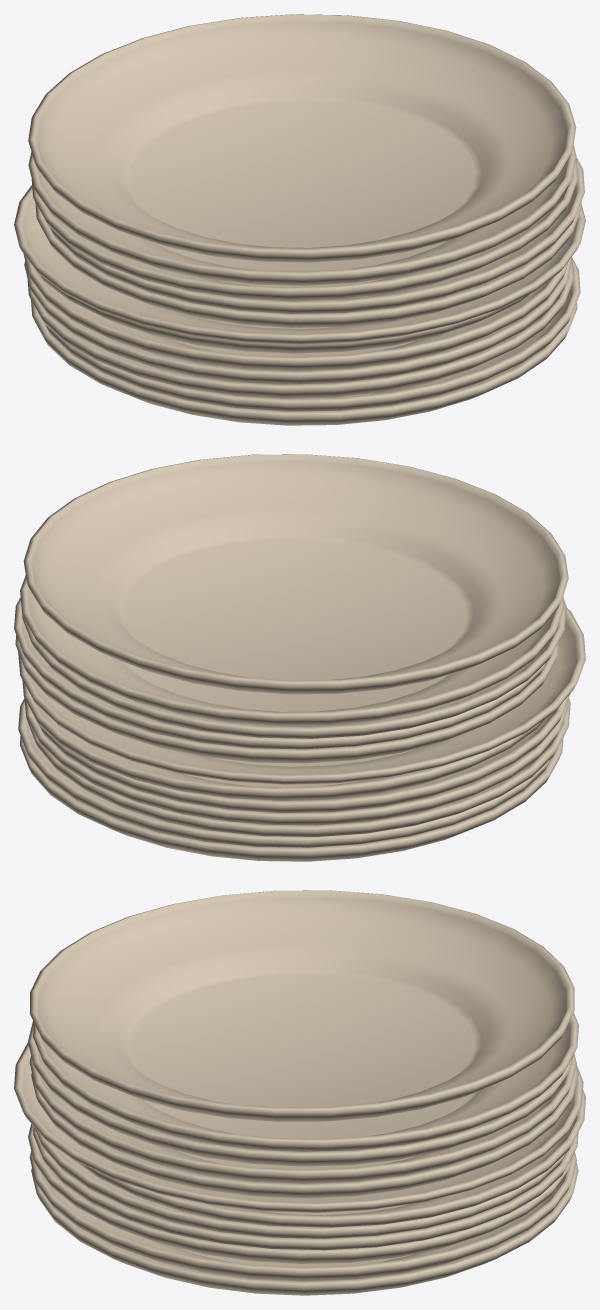
Rendered from plates_stack.fbx.
The picture shows the model from 3 angles, top to bottom: view 1: azimuth 30°, elevation 25°; view 2: azimuth 150°, elevation 25°; view 3: azimuth 270°, elevation 25°; orthographic projection.
Visible parts, largest first — view 1: Dishes; view 2: Dishes; view 3: Dishes.
Part boxes in pixels (box(x1,y1,x2,y2)): Dishes: box(14, 14, 585, 425); Dishes: box(14, 454, 585, 861); Dishes: box(14, 890, 585, 1295).
Bounding box in the file's own units: 26.23 × 11.44 × 26.12.
